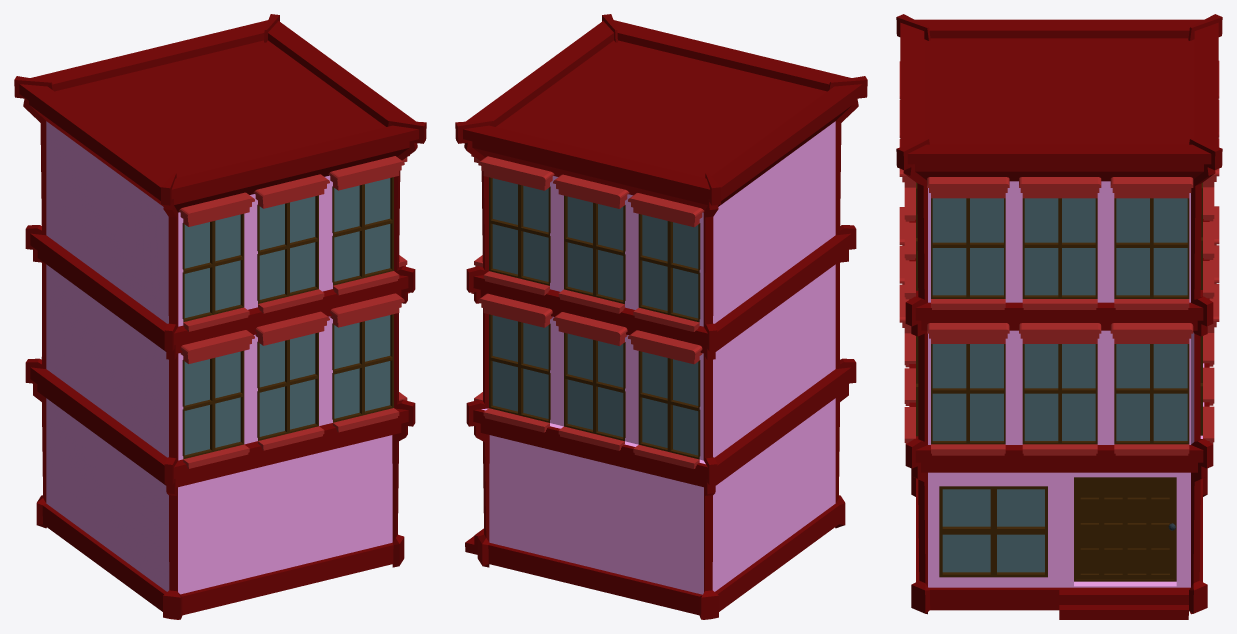
Rendered from 3-Pink&Red.fbx.
3 views of the same model, side by side, from view 1: azimuth 30°, elevation 25°; view 2: azimuth 150°, elevation 25°; view 3: azimuth 270°, elevation 25° (orthographic). The views are drawn at different scales.
Visible parts, largest first — view 1: Cube.011; view 2: Cube.011; view 3: Cube.011.
Boxes of the visible parts, x1=… form: Cube.011: x1=14, y1=14, x2=426, y2=619; Cube.011: x1=455, y1=14, x2=867, y2=619; Cube.011: x1=896, y1=14, x2=1222, y2=619.
Bounding box in the file's own units: 1421 × 1435 × 2274.
